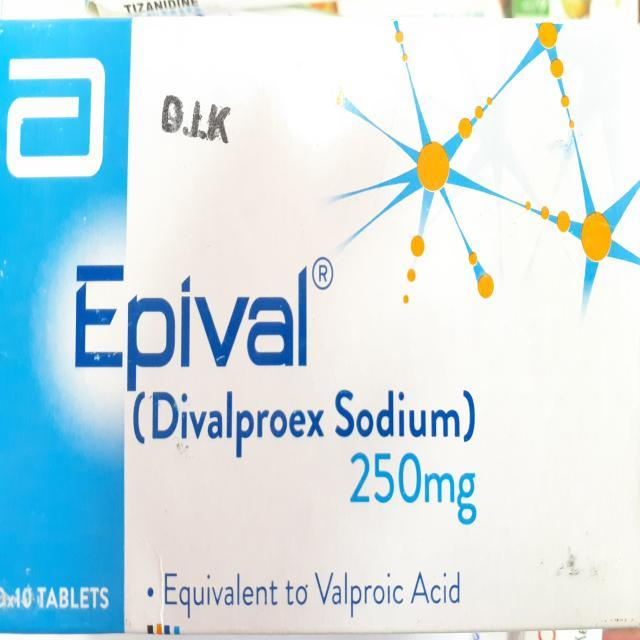drug-name: (70, 260, 314, 390)
